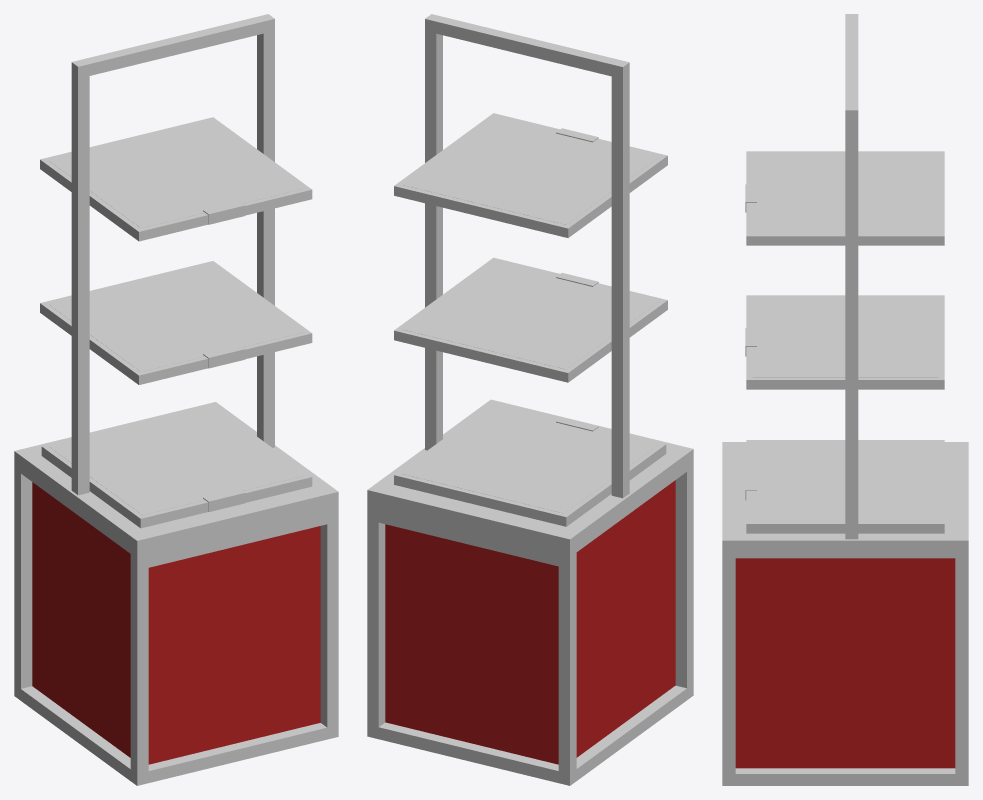
File: Counter_8_Exhibition_Shelf_Rectangle303_1_White.FBX
3 views of the same model, side by side, from view 1: azimuth 30°, elevation 25°; view 2: azimuth 150°, elevation 25°; view 3: azimuth 270°, elevation 25° (orthographic).
Visible parts, largest first — view 1: Counter_8_Exhibition_Shelf_Rectangle303_1_White; view 2: Counter_8_Exhibition_Shelf_Rectangle303_1_White; view 3: Counter_8_Exhibition_Shelf_Rectangle303_1_White.
Boxes of the visible parts, box(x1,y1,x2,y2) form: Counter_8_Exhibition_Shelf_Rectangle303_1_White: box(14, 14, 338, 785); Counter_8_Exhibition_Shelf_Rectangle303_1_White: box(367, 14, 693, 785); Counter_8_Exhibition_Shelf_Rectangle303_1_White: box(722, 14, 968, 785).
Bounding box in the file's own units: 44.05 × 141 × 46.51.
